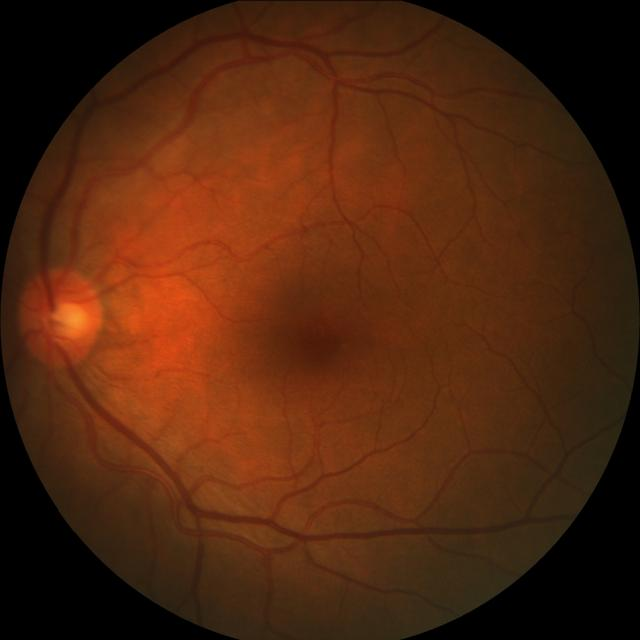OC: (48, 298, 90, 340)
OD: (20, 263, 104, 368)
